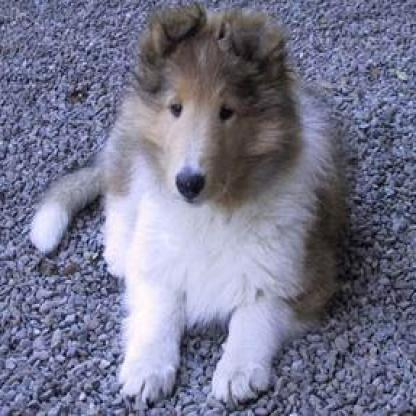collie: (30, 8, 351, 403)
